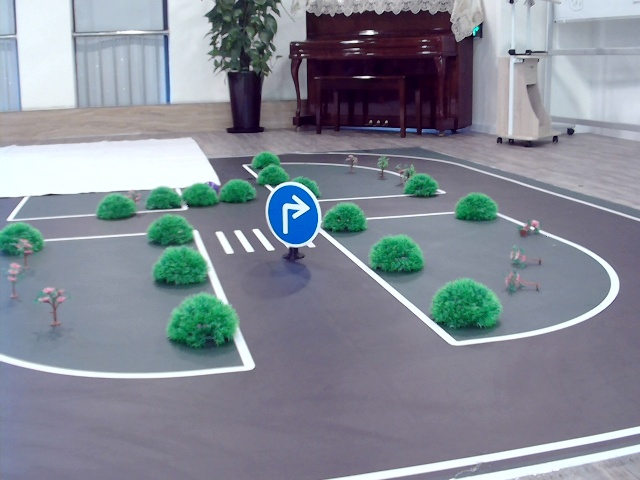turn_right: (275, 194, 311, 234)
